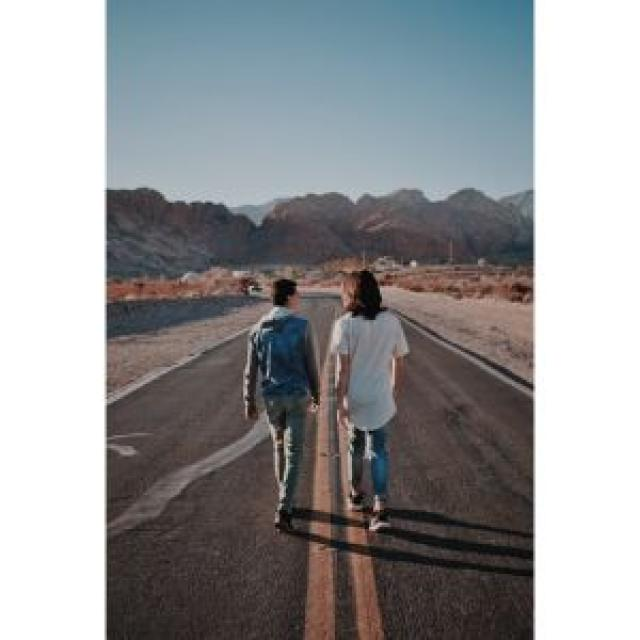nonfall: (333, 256, 425, 539), (243, 269, 330, 519)
